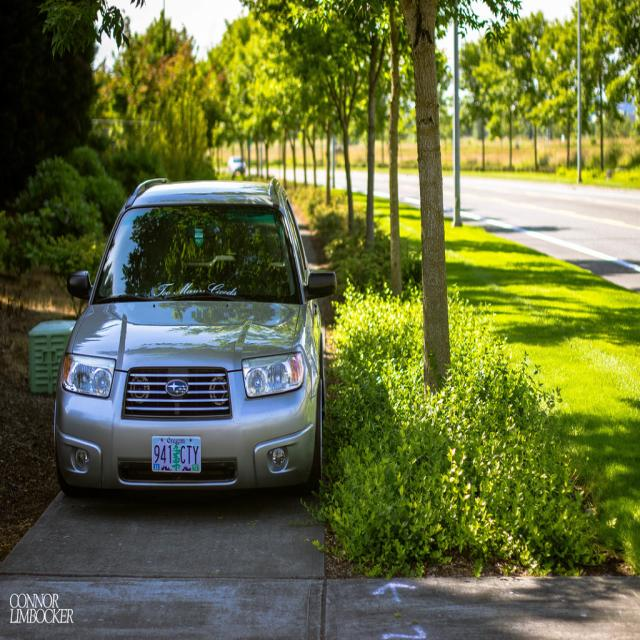car: (52, 174, 336, 499)
